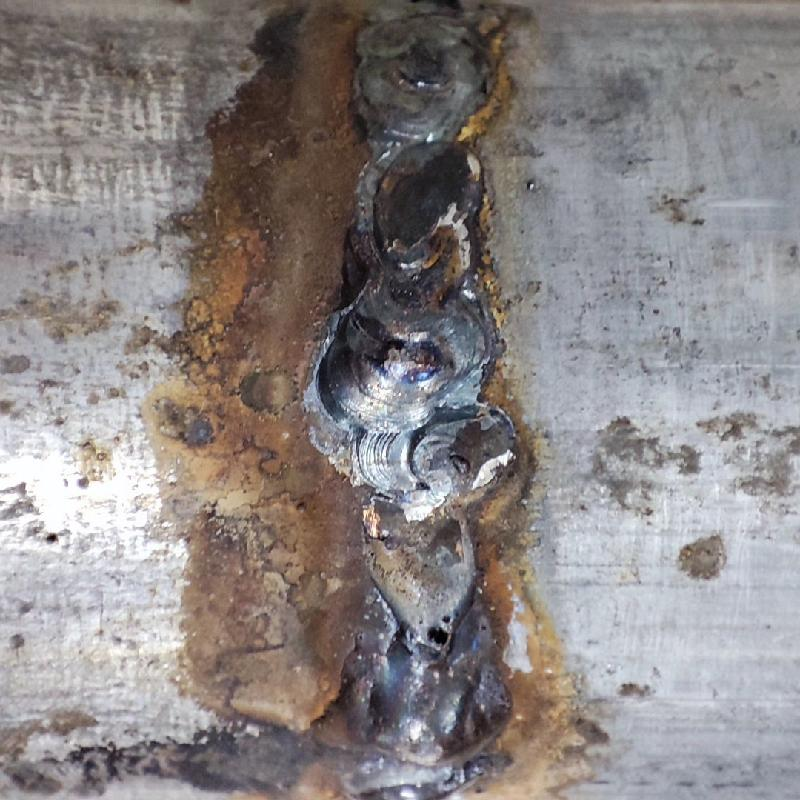Not_fully_soldered: (338, 428, 517, 648)
Surface_pores: (409, 612, 463, 650)
Weld: (307, 645, 506, 796)
wrong_size: (305, 3, 502, 424)
